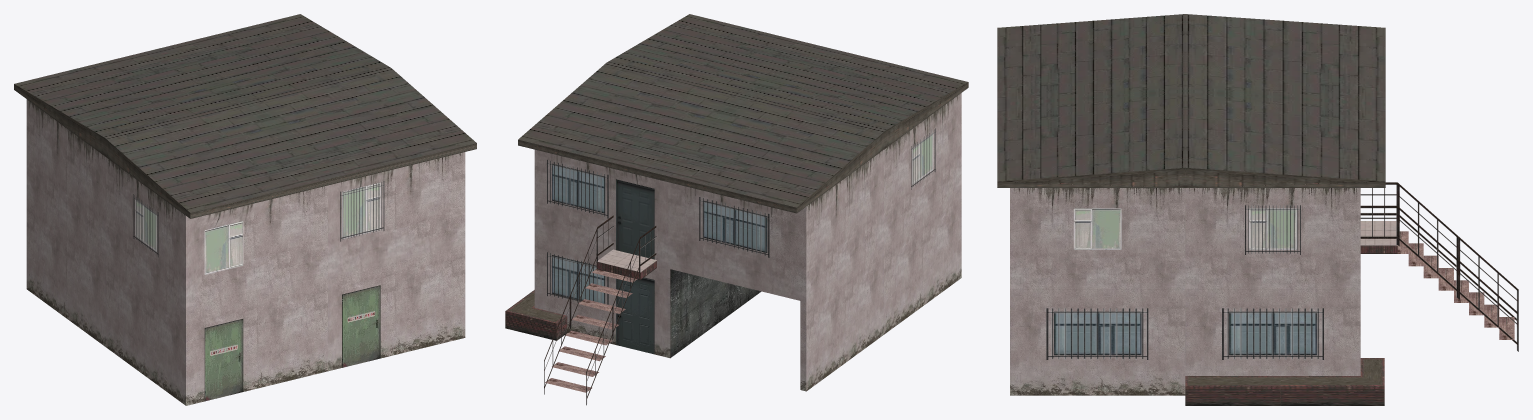
File: psxprop_-_ps1psx_house (1).glb
The picture shows the model from 3 angles, left to right: view 1: azimuth 30°, elevation 25°; view 2: azimuth 150°, elevation 25°; view 3: azimuth 270°, elevation 25°; orthographic projection. The views are drawn at different scales.
Visible parts, largest first — view 1: lowPHouse01_House01_0, grillWindows_lowPHouse01_0; view 2: lowPHouse01_House01_0, grillWindows_lowPHouse01_0; view 3: lowPHouse01_House01_0, grillWindows_lowPHouse01_0.
Boxes of the visible parts, x1=… form: lowPHouse01_House01_0: x1=14, y1=14, x2=476, y2=405; grillWindows_lowPHouse01_0: x1=133, y1=181, x2=384, y2=256; lowPHouse01_House01_0: x1=505, y1=14, x2=968, y2=391; grillWindows_lowPHouse01_0: x1=544, y1=128, x2=935, y2=405; lowPHouse01_House01_0: x1=997, y1=14, x2=1397, y2=405; grillWindows_lowPHouse01_0: x1=1046, y1=182, x2=1518, y2=359.
Size of the model in its own units: 8.72 by 5.84 by 11.93.
Materials: 2 (2 with a texture image).
